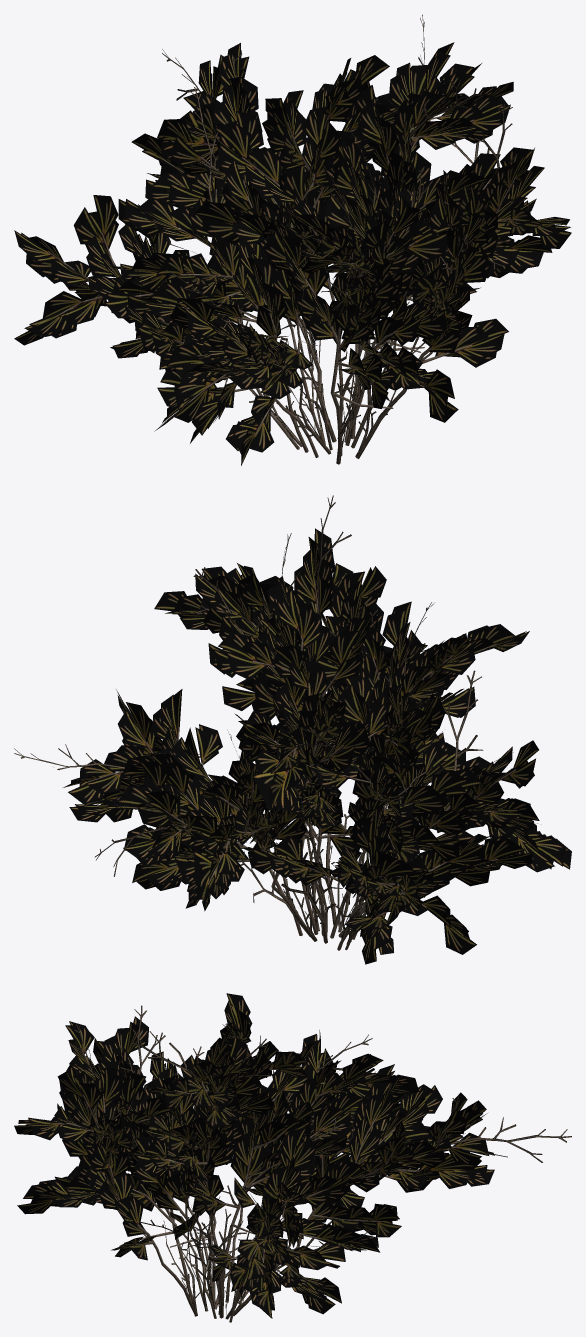
The picture shows the model from 3 angles, top to bottom: view 1: azimuth 30°, elevation 25°; view 2: azimuth 150°, elevation 25°; view 3: azimuth 270°, elevation 25°; orthographic projection. The views are drawn at different scales.
Visible parts, largest first — view 1: wild_rooibos_bush_a.002, wild_rooibos_bush_a, wild_rooibos_bush_a.001; view 2: wild_rooibos_bush_a.002, wild_rooibos_bush_a.001, wild_rooibos_bush_a; view 3: wild_rooibos_bush_a.002, wild_rooibos_bush_a, wild_rooibos_bush_a.001.
Boxes of the visible parts, box(x1,y1,x2,y2) form: wild_rooibos_bush_a.002: box(14, 42, 571, 465); wild_rooibos_bush_a: box(48, 92, 522, 464); wild_rooibos_bush_a.001: box(92, 14, 534, 458); wild_rooibos_bush_a.002: box(63, 528, 571, 964); wild_rooibos_bush_a.001: box(14, 495, 513, 941); wild_rooibos_bush_a: box(87, 568, 529, 950); wild_rooibos_bush_a.002: box(14, 993, 507, 1318); wild_rooibos_bush_a: box(50, 1025, 478, 1322); wild_rooibos_bush_a.001: box(73, 1005, 571, 1315).
Size of the model in its own units: 0.6966 by 0.5395 by 0.8434.
3 materials, 3 textured.
